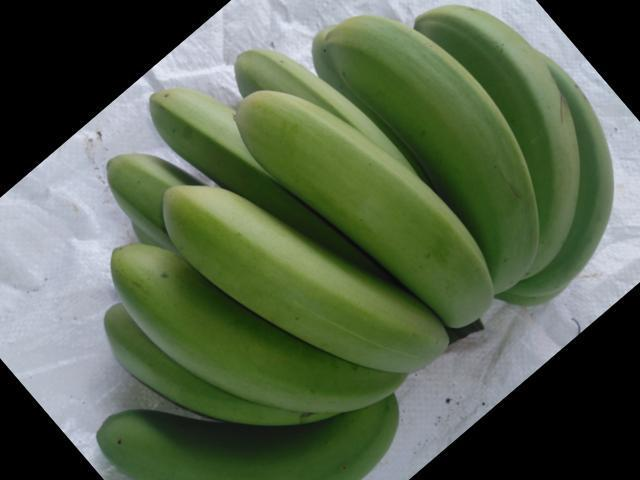freshunripe: (228, 83, 500, 334), (312, 11, 557, 278), (160, 181, 453, 372), (101, 241, 391, 404), (84, 408, 433, 479), (79, 142, 214, 243), (138, 81, 255, 174), (231, 43, 333, 114)
